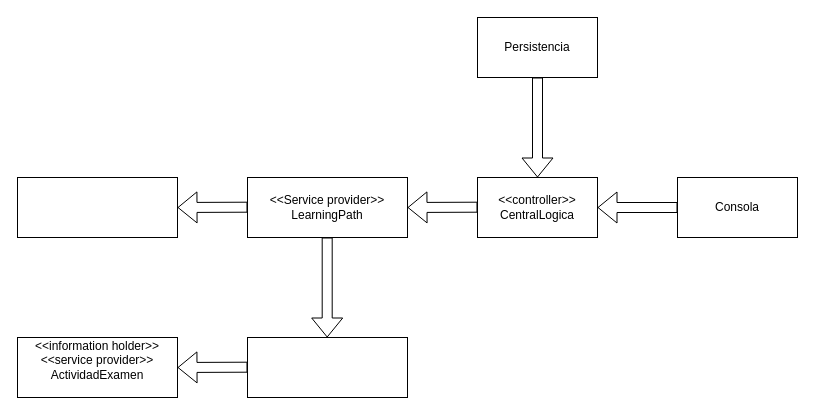
Some shapes in this 815 by 415 pixel diagram are drawn without their labels. The centre of each missing label's shape, as x and y in pixels:
"<<information holder>> <<service provider>> Actividad" belongs at point 327,367.
"<<information holder>> Usuarios" belongs at point 97,207.
